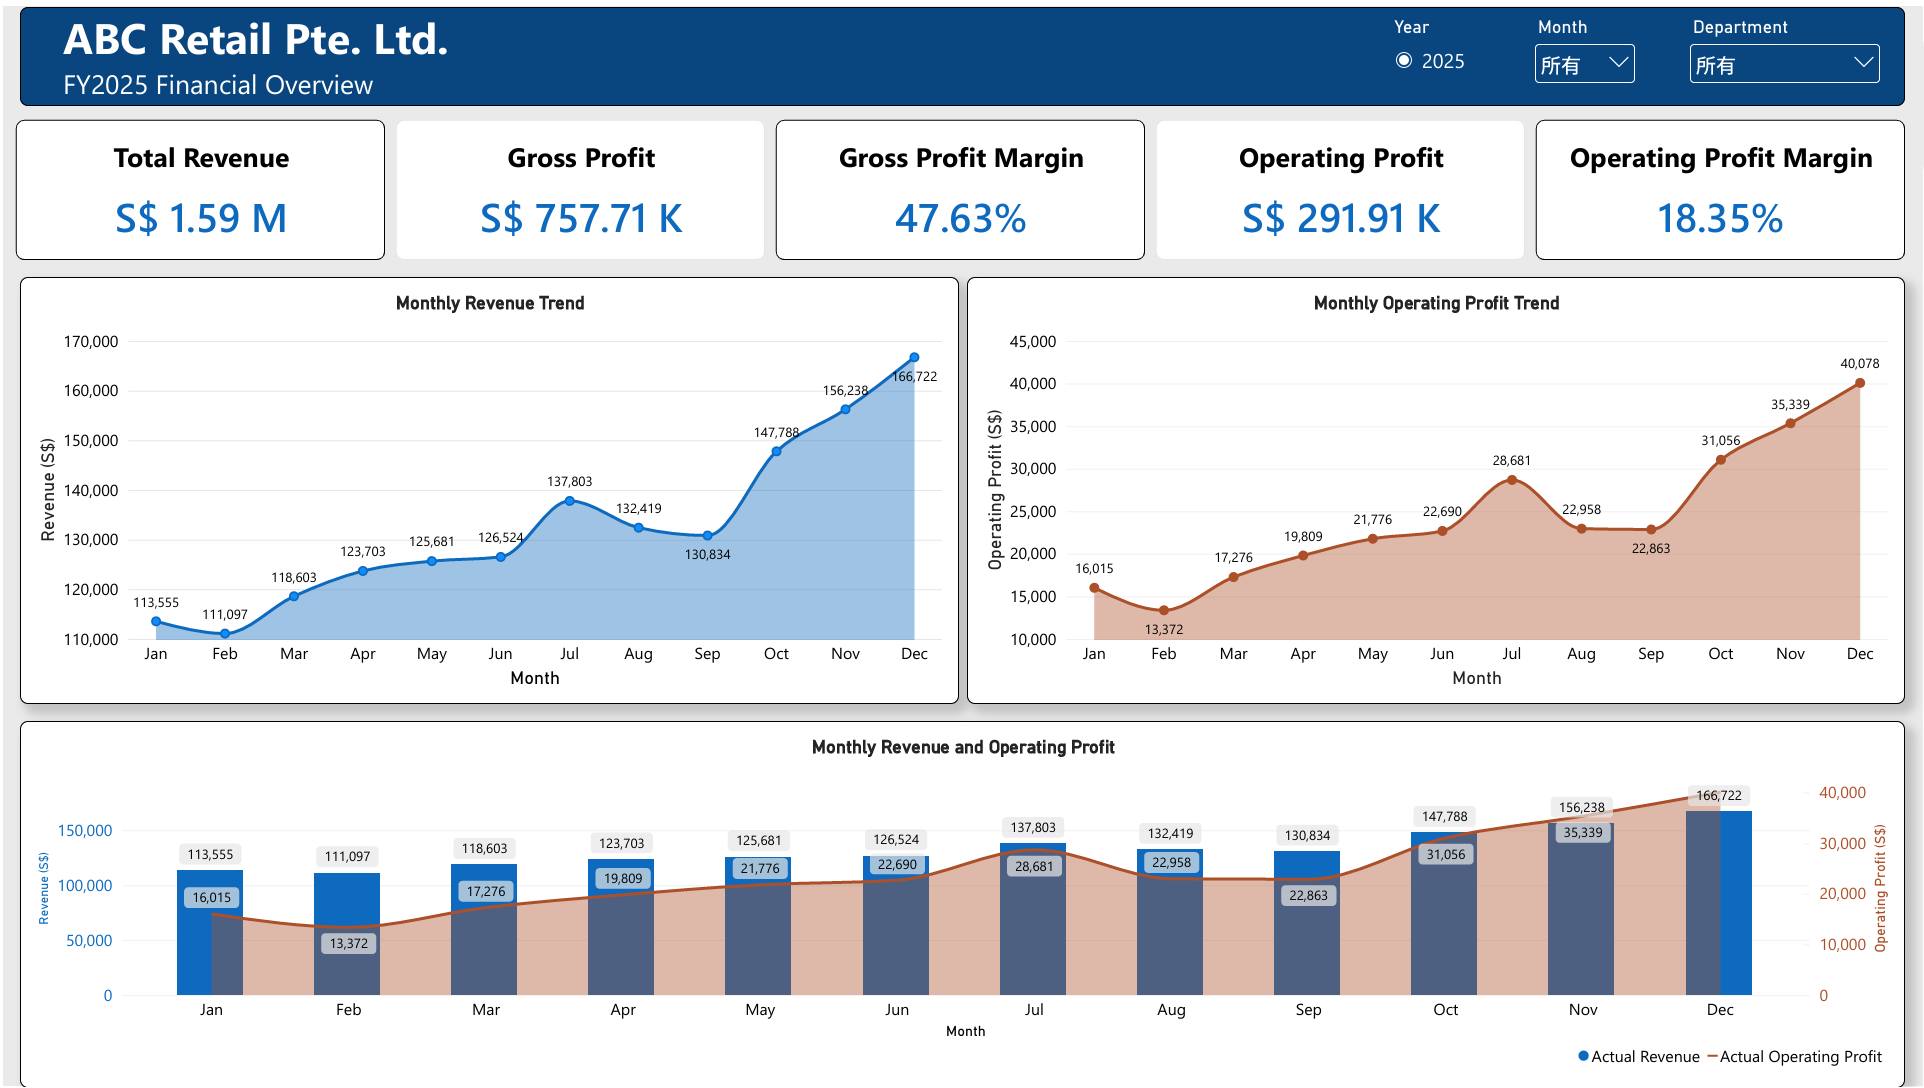

This screenshot's page, from the dashboard's own definition file:
{"tool":"powerbi","page":{"name":"Financial Overview","canvas":[1920,1080],"ordinal":0},"visuals":[{"type":"cardVisual","fields":{"Data":["Fact_Actual.Total Revenue Format"]},"box":[12.4,113.4,369,140],"z":0},{"type":"lineChart","title":"Monthly Revenue Trend","fields":{"Category":["Dim_Date.Month"],"Y":["Fact_Actual.Total Revenue Calculation"]},"box":[16.5,270.2,938.4,426.9],"z":1000},{"type":"lineChart","title":"Monthly Operating Profit Trend","fields":{"Category":["Dim_Date.Month"],"Y":["Fact_Actual.Operating Profit Calculation"]},"box":[963.1,270.2,938.4,426.9],"z":2000},{"type":"textbox","box":[16.5,0,1884.9,99],"z":3000},{"type":"lineClusteredColumnComboChart","title":"Monthly Revenue and Operating Profit","fields":{"Category":["Dim_Date.Month"],"Y":["Fact_Actual.Total Revenue Calculation"],"Y2":["Fact_Actual.Operating Profit Calculation"]},"box":[16.5,713.6,1884.9,367.1],"z":4000},{"type":"cardVisual","fields":{"Data":["Fact_Actual.Gross Profit Margin"]},"box":[772.3,113.4,369,140],"z":5000},{"type":"cardVisual","fields":{"Data":["Fact_Actual.Operating Profit"]},"box":[1152.3,113.4,369,140],"z":6000},{"type":"cardVisual","fields":{"Data":["Fact_Actual.Operating Profit Margin"]},"box":[1532.3,113.4,369,140],"z":7000},{"type":"slicer","fields":{"Values":["Dim_Date.Month"]},"box":[1526.3,9.1,110,80],"z":8000},{"type":"slicer","fields":{"Values":["Dim_Date.Year"]},"box":[1381.7,8.9,100,80.4],"z":9000},{"type":"slicer","fields":{"Values":["Dim_Department.Department"]},"box":[1680.8,8.9,200,80.4],"z":10000},{"type":"cardVisual","fields":{"Data":["Fact_Actual.Gross Profit"]},"box":[392.4,113.4,369,140],"z":11000}]}

Visuals, with their boxes in screenshot pixels (x1, y1, x2, y2), scaled from the page's 1920x1080 canvas onto the 1924x1088 screenshot:
cardVisual - Fact_Actual.Total Revenue Format: rect(12, 114, 382, 255)
"Monthly Revenue Trend" lineChart: rect(17, 272, 957, 702)
"Monthly Operating Profit Trend" lineChart: rect(965, 272, 1905, 702)
textbox: rect(17, 0, 1905, 100)
"Monthly Revenue and Operating Profit" lineClusteredColumnComboChart: rect(17, 719, 1905, 1087)
cardVisual - Fact_Actual.Gross Profit Margin: rect(774, 114, 1144, 255)
cardVisual - Fact_Actual.Operating Profit: rect(1155, 114, 1524, 255)
cardVisual - Fact_Actual.Operating Profit Margin: rect(1535, 114, 1905, 255)
slicer - Dim_Date.Month: rect(1529, 9, 1640, 90)
slicer - Dim_Date.Year: rect(1385, 9, 1485, 90)
slicer - Dim_Department.Department: rect(1684, 9, 1885, 90)
cardVisual - Fact_Actual.Gross Profit: rect(393, 114, 763, 255)
